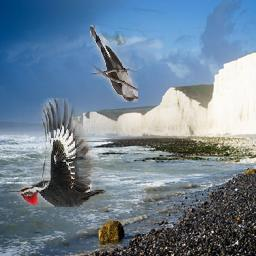Cuckoo: (90, 26, 138, 103)
Woodpecker: (8, 99, 107, 208)
